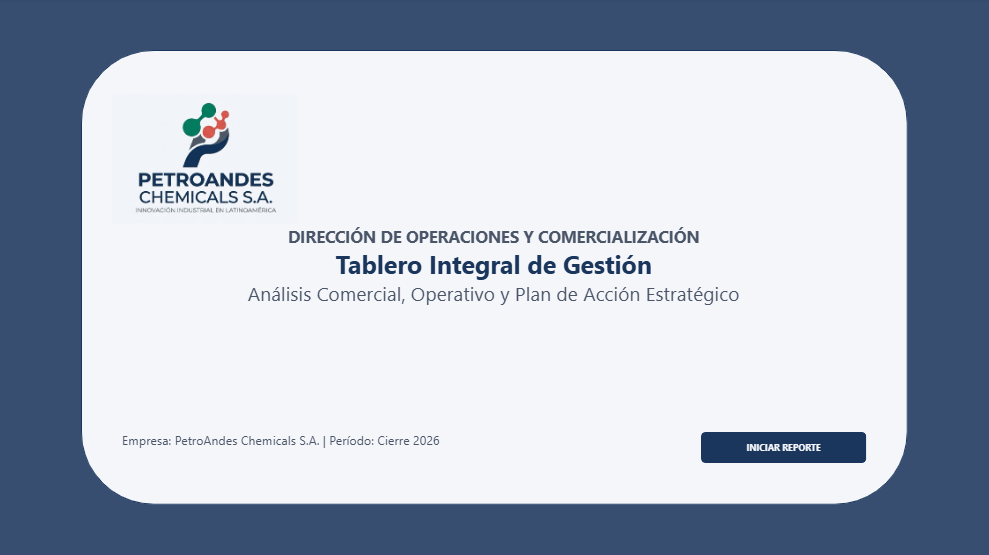

The page's visual inventory and layout, read from the dashboard file:
{"tool":"powerbi","page":{"name":"00_Portada","canvas":[1920,1080],"ordinal":0},"visuals":[{"type":"shape","box":[160,100,1600,880],"z":0},{"type":"image","box":[220,160,360,300],"z":1000},{"type":"textbox","box":[260,420,1400,240],"z":2000},{"type":"textbox","box":[240,840,638,60],"z":3000},{"type":"actionButton","box":[1360,840,320,60],"z":4000}]}

Visuals, with their boxes in screenshot pixels (x1, y1, x2, y2), scaled from the page's 1920x1080 canvas onto the 989x555 screenshot:
shape: box(82, 51, 907, 504)
image: box(113, 82, 299, 236)
textbox: box(134, 216, 855, 339)
textbox: box(124, 432, 452, 462)
actionButton: box(701, 432, 865, 462)
